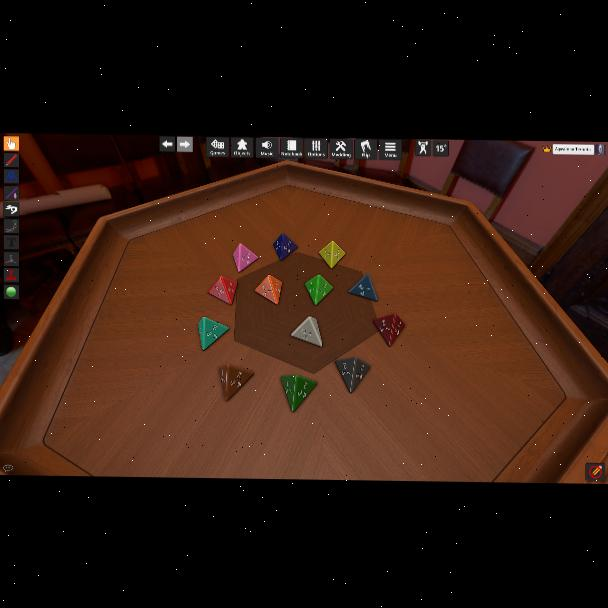d4: (280, 374, 316, 413), (336, 357, 370, 393), (220, 364, 252, 401), (198, 317, 230, 351), (374, 313, 404, 346), (290, 316, 321, 347), (255, 273, 283, 305), (304, 274, 332, 305), (348, 274, 377, 303), (208, 277, 236, 306), (232, 243, 258, 274), (318, 242, 344, 270), (273, 233, 297, 262)
